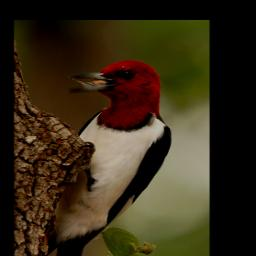Woodpecker: (46, 59, 173, 256)
